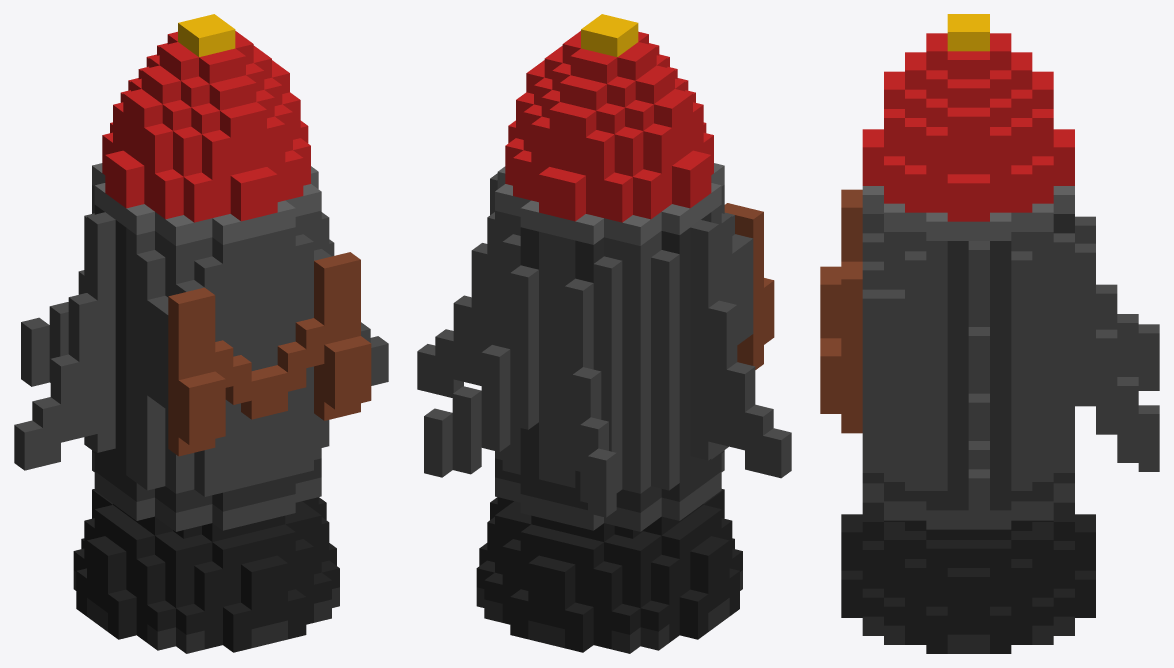
The model's file is Jetpack.obj.
The picture shows the model from 3 angles, left to right: view 1: azimuth 30°, elevation 25°; view 2: azimuth 150°, elevation 25°; view 3: azimuth 270°, elevation 25°; orthographic projection.
Size of the model in its own units: 2 by 3 by 1.6.
1 material, 1 textured.
